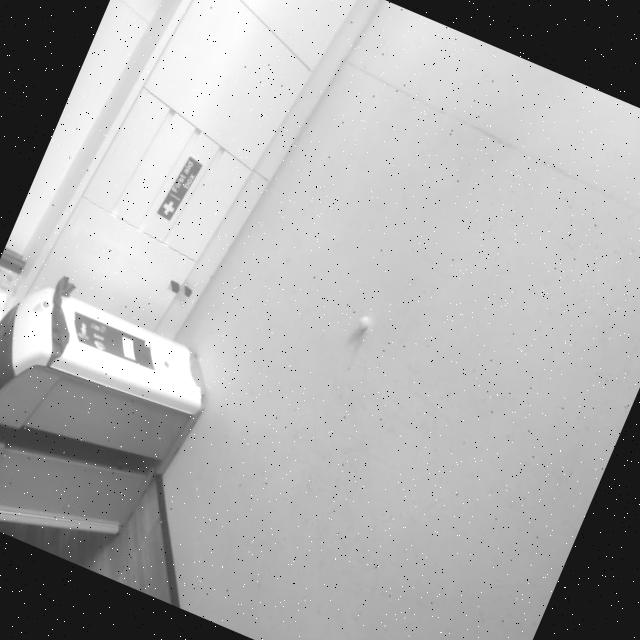ping-pong-ball: (352, 312, 370, 332)
